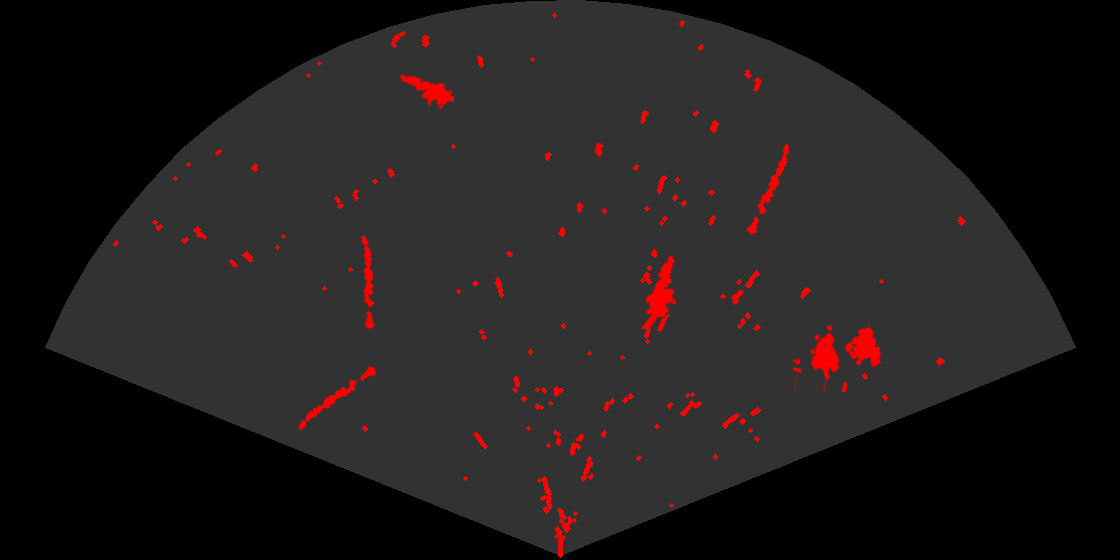cage: (793, 323, 883, 392)
chain: (297, 365, 378, 432), (745, 142, 791, 236), (359, 234, 377, 329)
frogman: (638, 254, 678, 329), (398, 73, 454, 107)
